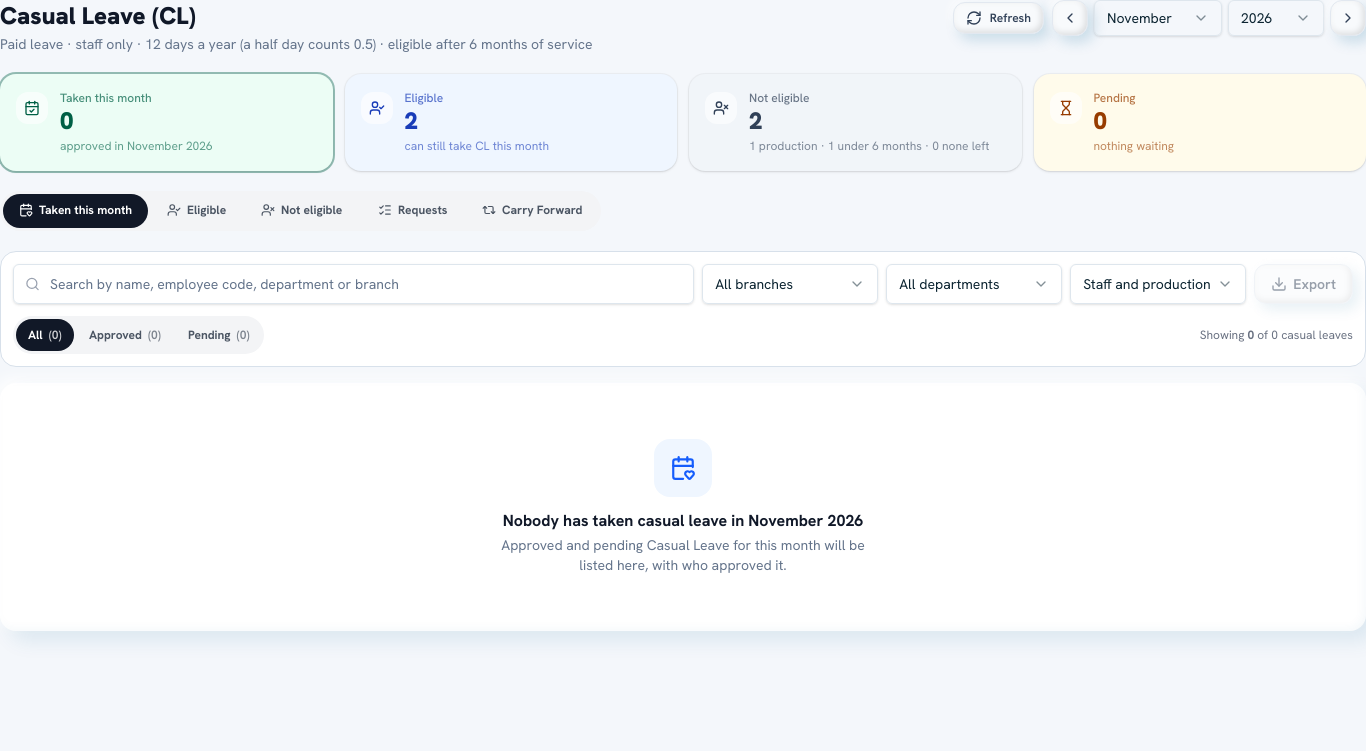
Test: Carry Forward: Deduct days › offers only Deduct days, and waits for the number before detecting
Click the tab "Carry Forward" at (532, 210), box [466,194,598,228]
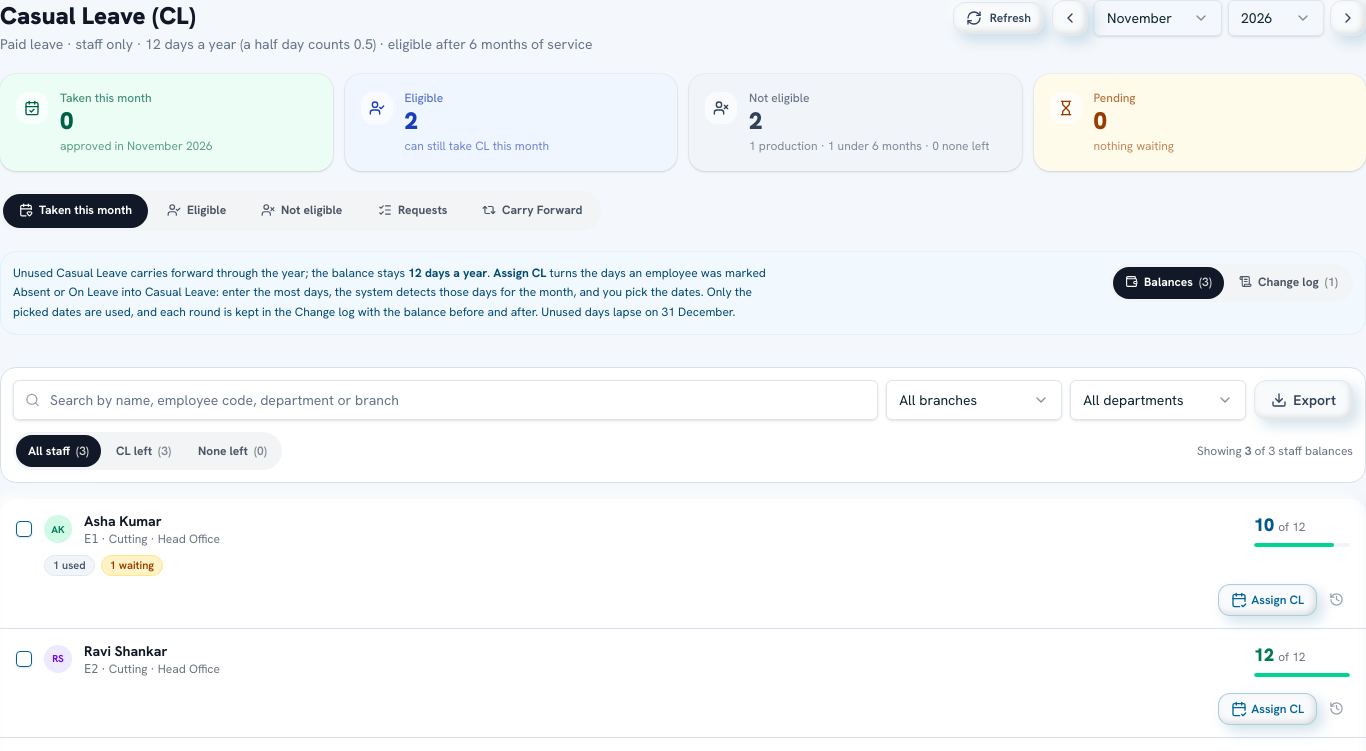
Click the button "Assign CL" below "10" at (1268, 600), box [1218,584,1317,616]
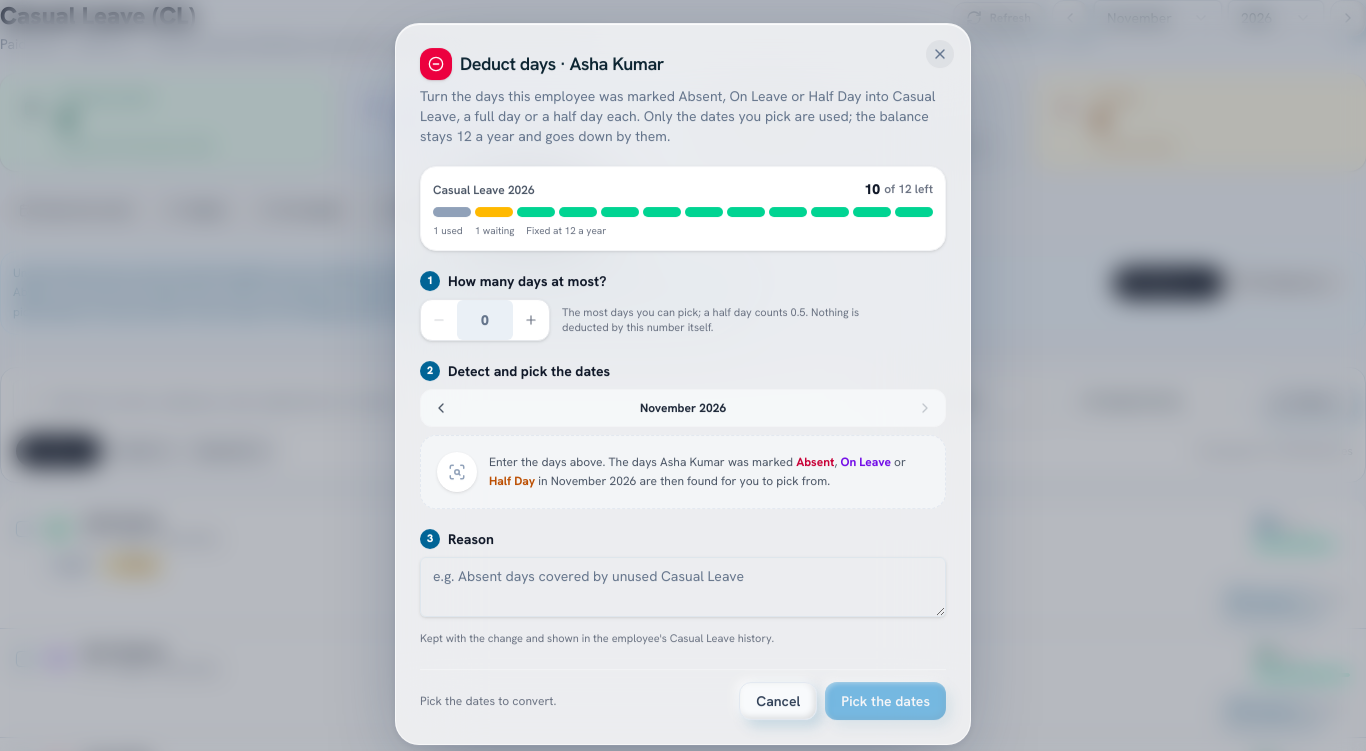
expect the text "Deduct days · Asha Kumar" is shown: met, box [420,48,664,80]
